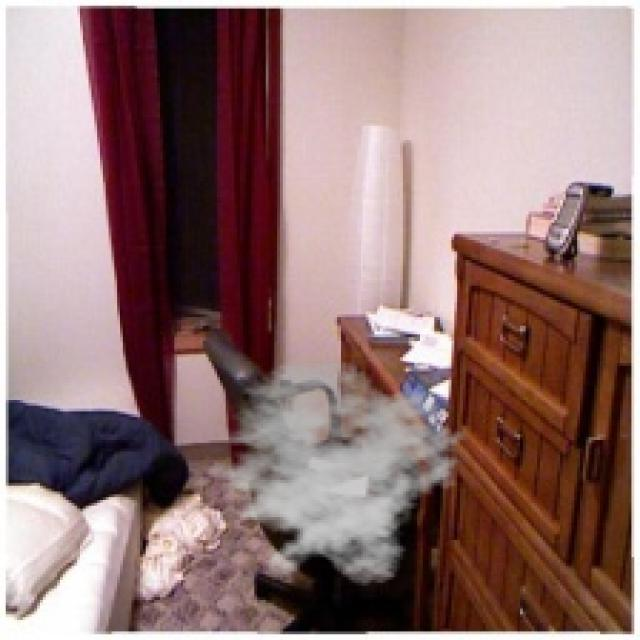smoke: (188, 357, 468, 586)
